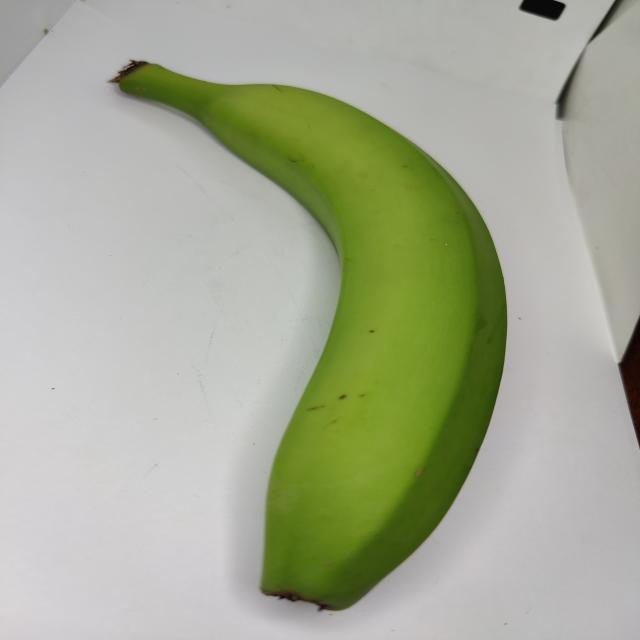raw: (75, 43, 572, 622)
